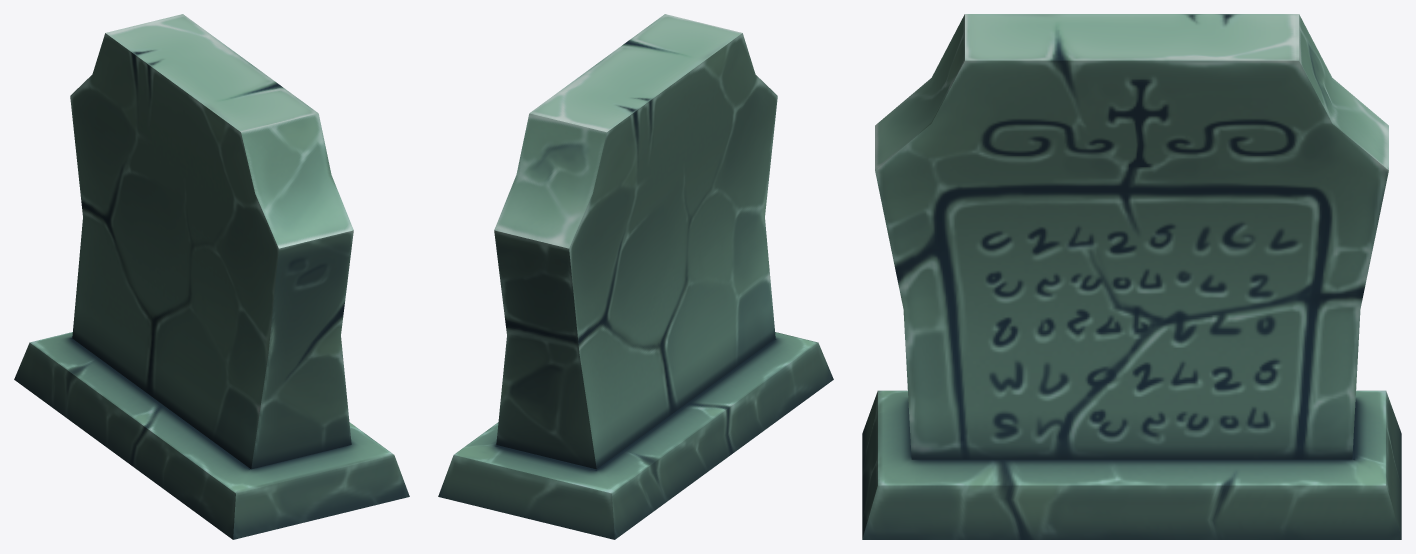
The model's file is tombstone_small_01.fbx.
3 views of the same model, side by side, from view 1: azimuth 30°, elevation 25°; view 2: azimuth 150°, elevation 25°; view 3: azimuth 270°, elevation 25° (orthographic). The views are drawn at different scales.
Visible parts, largest first — view 1: tombstone_small_01; view 2: tombstone_small_01; view 3: tombstone_small_01.
Boxes of the visible parts, x1,y1,x2,y2 form: tombstone_small_01: (14,14,409,539); tombstone_small_01: (438,14,833,539); tombstone_small_01: (862,14,1401,539).
Bounding box in the file's own units: 4.14 × 8.17 × 8.88.
